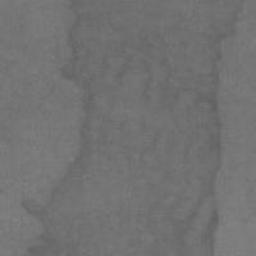Water spot: (19, 0, 251, 256)
